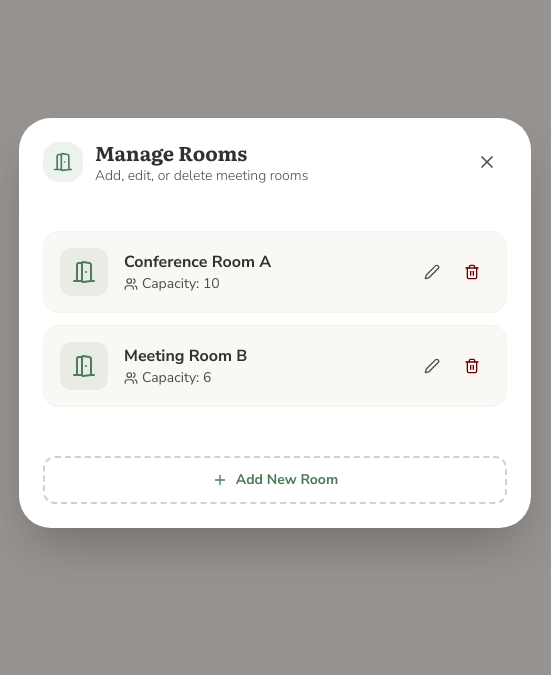
RoomManagerModal › should show add room form when clicking Add New Room
Click the button "Add New Room".
click(275, 480)  # box [43,456,507,504]
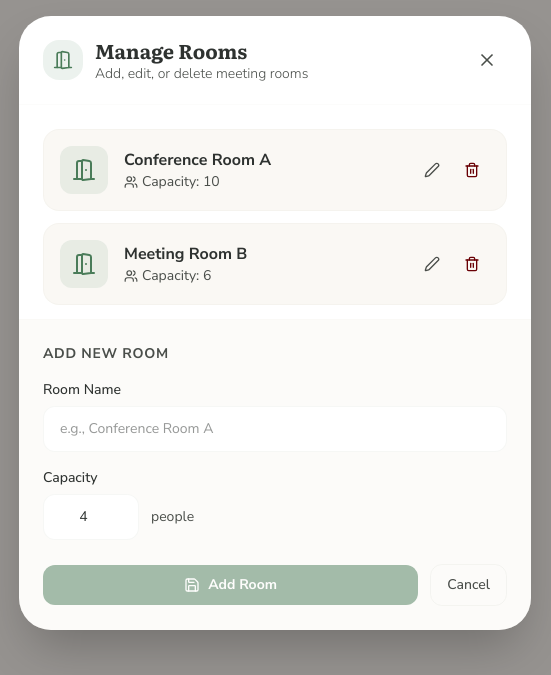
expect the heading "Add New Room" is shown: met, box [43,344,169,363]
expect the field with placeholder "e.g., Conference Room A" is shown: met, box [43,406,507,452]
